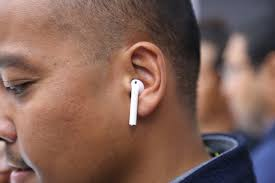earphone: (119, 41, 167, 127)
